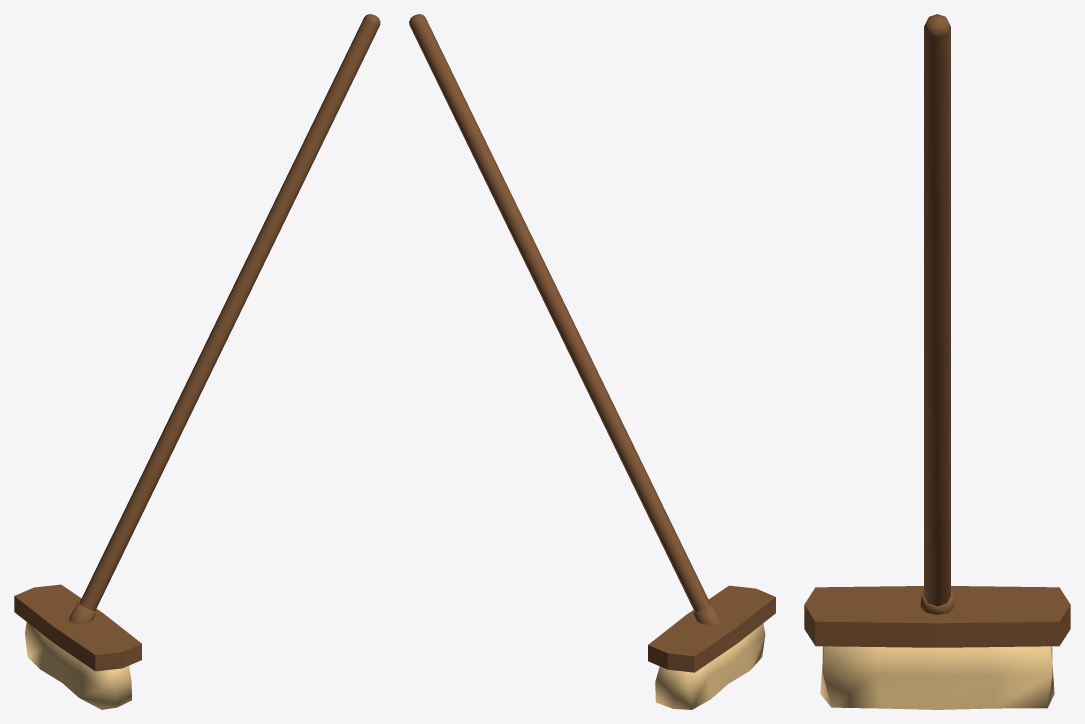
3 views of the same model, side by side, from view 1: azimuth 30°, elevation 25°; view 2: azimuth 150°, elevation 25°; view 3: azimuth 270°, elevation 25° (orthographic). The views are drawn at different scales.
Parts seen in each view (by area): view 1: PushBroom; view 2: PushBroom; view 3: PushBroom.
Boxes of the visible parts, x1=… form: PushBroom: x1=14, y1=14, x2=380, y2=709; PushBroom: x1=409, y1=14, x2=775, y2=709; PushBroom: x1=804, y1=14, x2=1070, y2=709.
Size of what is drawn, in the model's own units: 0.6991 by 1.21 by 0.3273.
1 material, 1 textured.
